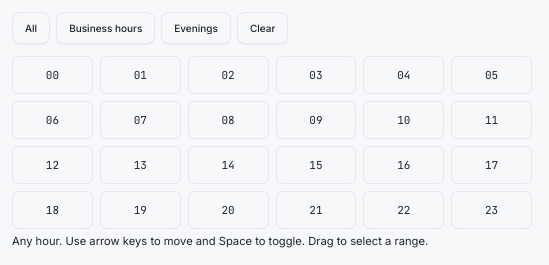
Test case: selects business hours and clears to any hour
Click the button "Business hours" at (106, 28), box [56,12,155,44]
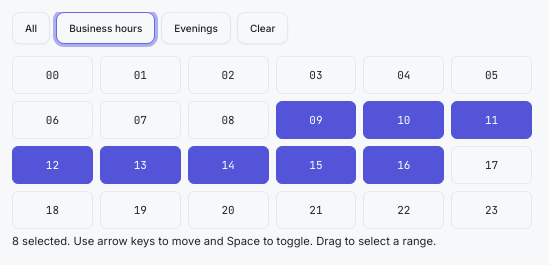
Result: the button named "09:00" is pressed at [276,101,356,139]
Result: the button named "16:00" is pressed at [363,146,444,184]
Click the button "Clear" at (263, 28), box [237,12,288,44]
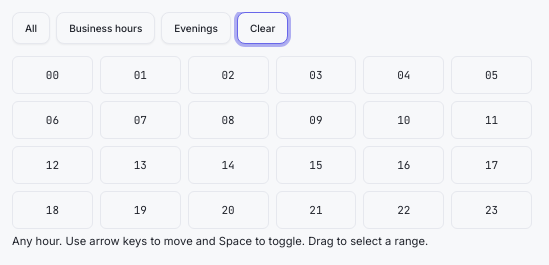
Result: the text "Any hour" is shown at [12,234,59,248]
